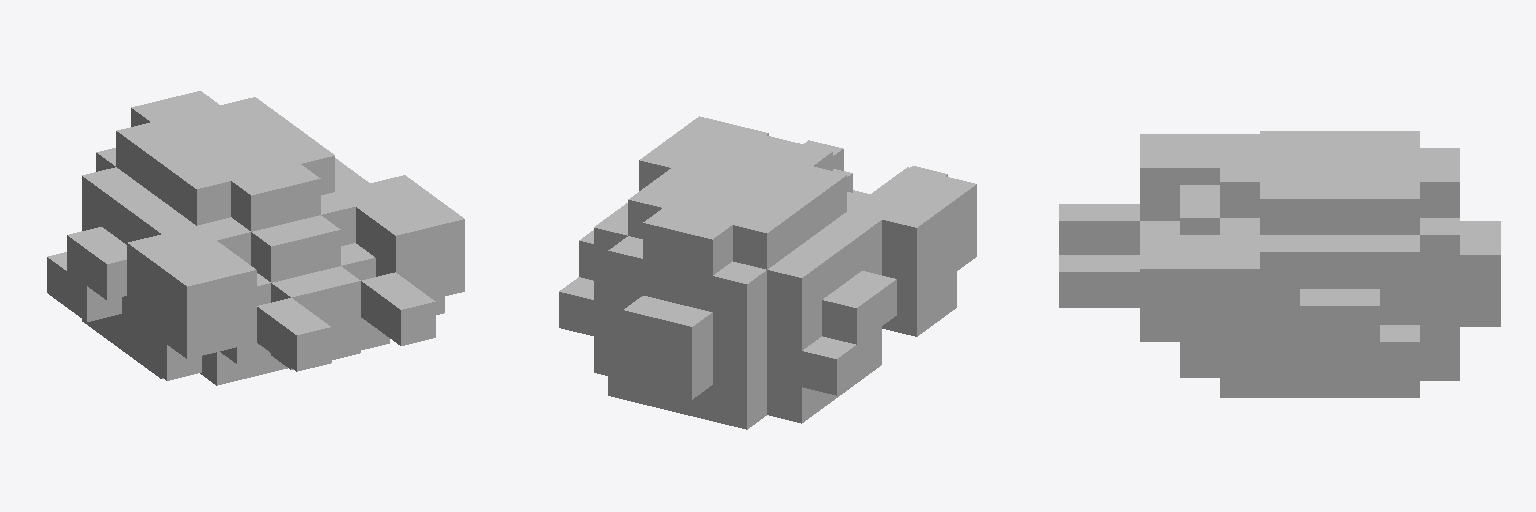
The model's file is Chicken.obj.
3 renders of one model, left to right at view 1: azimuth 30°, elevation 25°; view 2: azimuth 150°, elevation 25°; view 3: azimuth 270°, elevation 25°, orthographic.
Bounding box in the file's own units: 8 × 5 × 11.